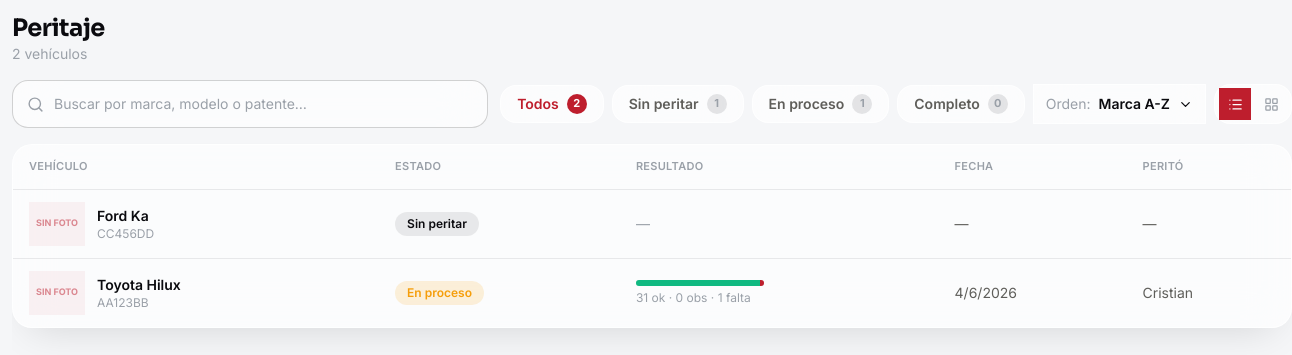
Test: PeritajesListPage › filtrar por "En proceso" deja solo esa fila
This screenshot has width=1292, height=355.
Step 1. Click the button "En proceso 1" → (820, 104), box top-left (752, 85), bottom-right (889, 123)
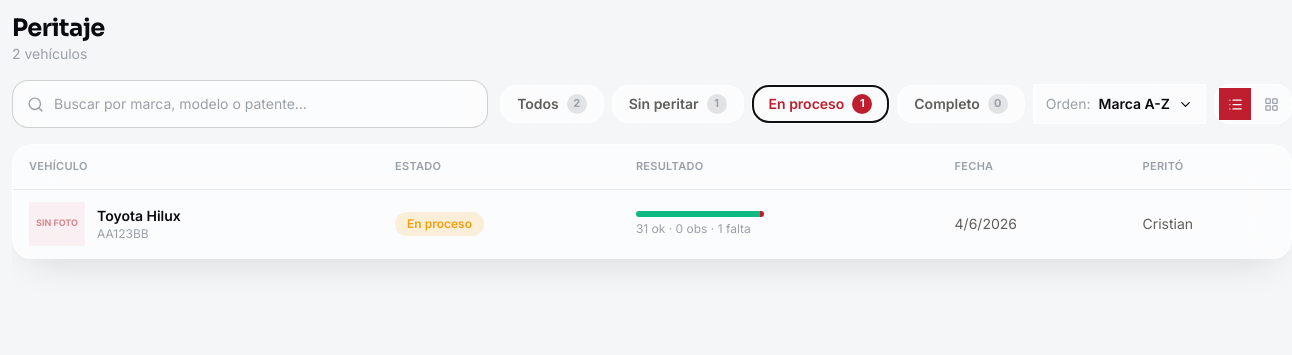
Expected: the text "Toyota Hilux" is shown, top-left (97, 206), bottom-right (181, 226)
Expected: the text "Ford Ka" is gone
